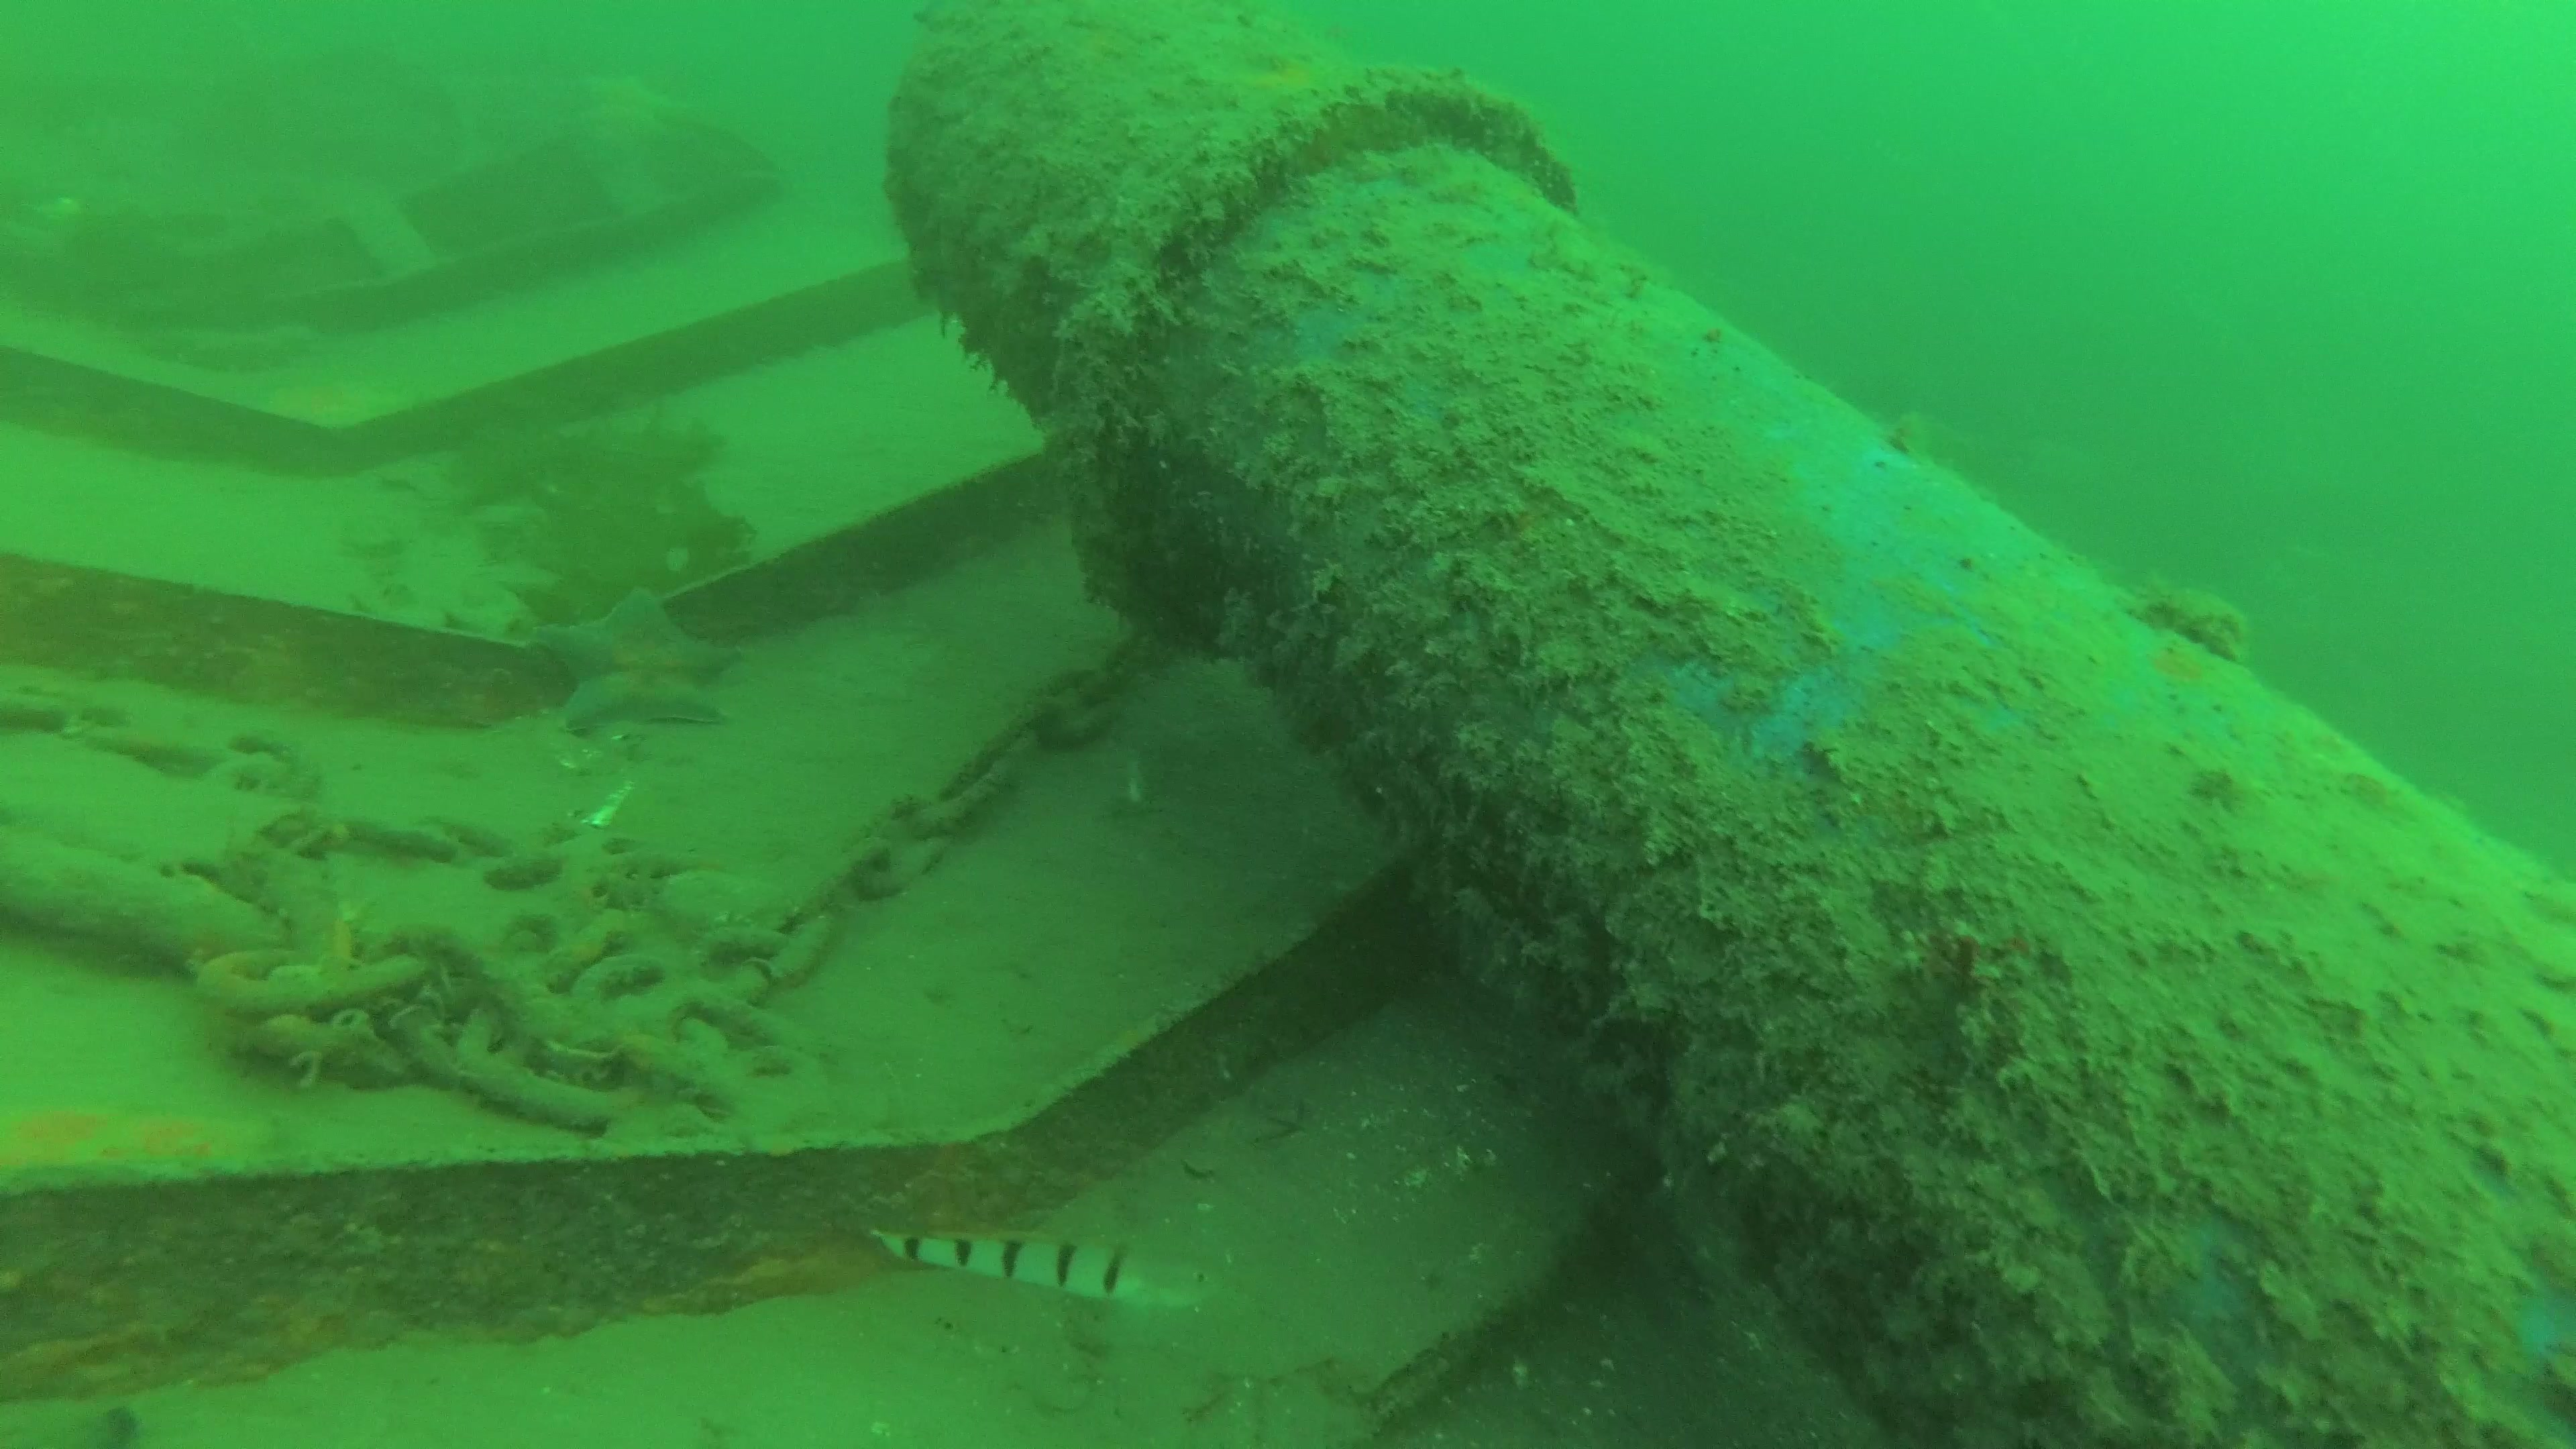holothurian: (333, 575, 536, 651), (124, 306, 331, 375)
starfish: (517, 580, 752, 745), (568, 67, 694, 145)
